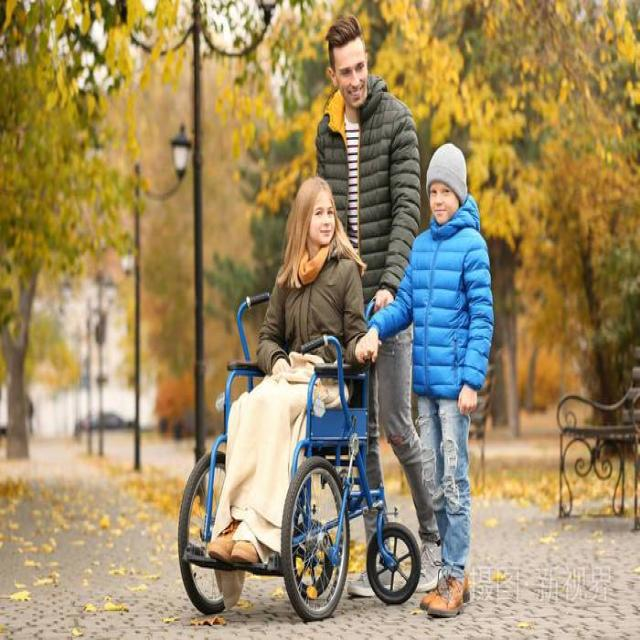wheelchairs: (171, 264, 434, 621)
